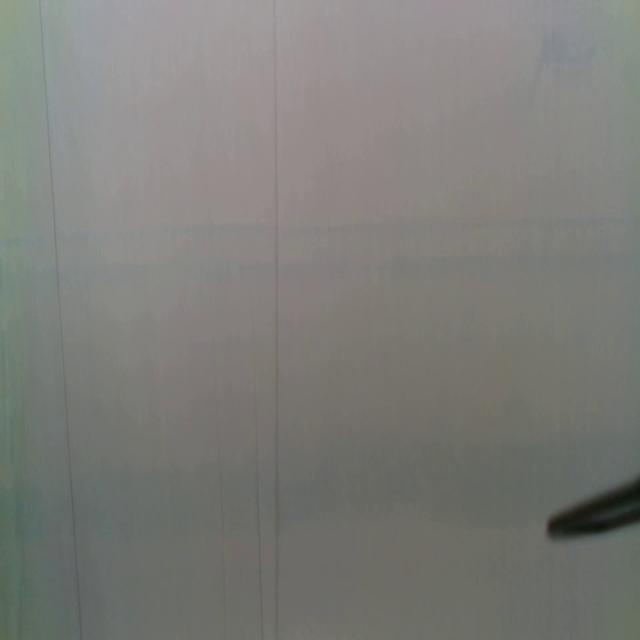hole: (2, 427, 544, 547), (0, 202, 640, 298)
